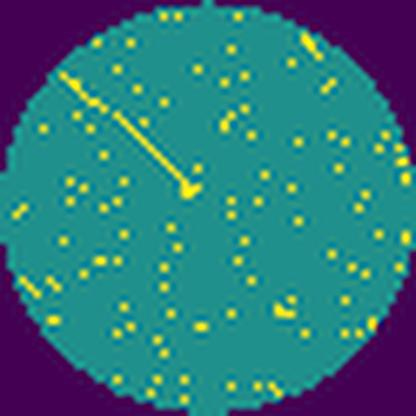Scratch: (54, 67, 203, 201)
